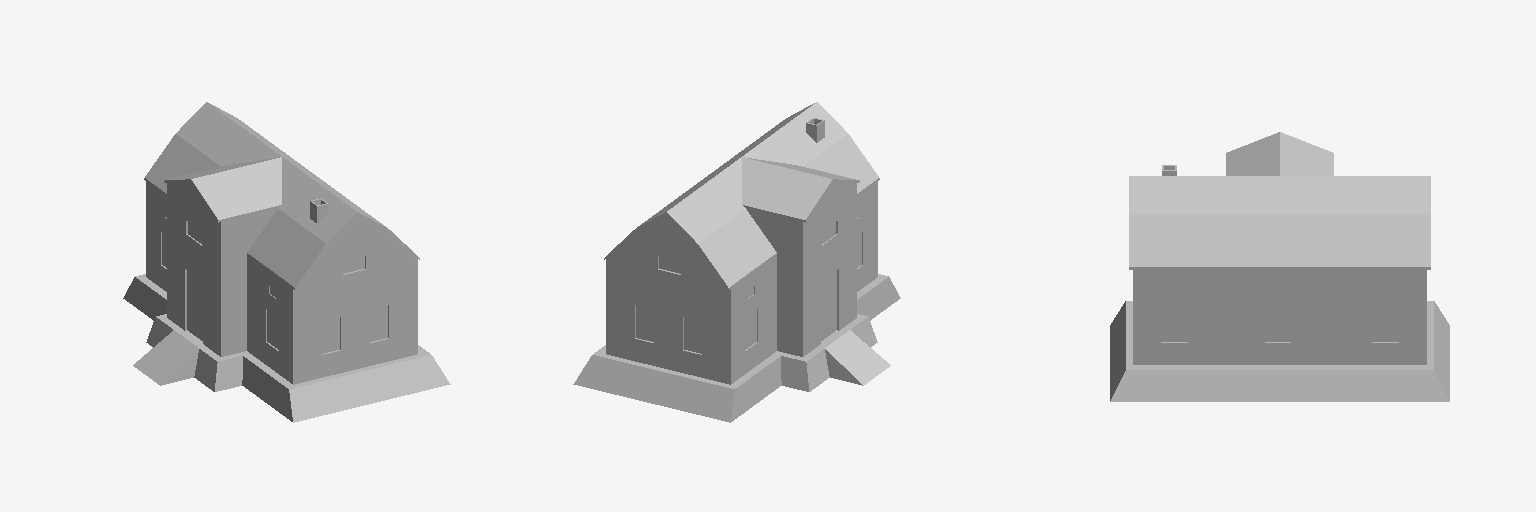
The model's file is town_house_1.obj.
3 views of the same model, side by side, from view 1: azimuth 30°, elevation 25°; view 2: azimuth 150°, elevation 25°; view 3: azimuth 270°, elevation 25° (orthographic).
Parts seen in each view (by area): view 1: town_house_1; view 2: town_house_1; view 3: town_house_1.
Part boxes in pixels (bbox=[...]): town_house_1: bbox=[123, 102, 450, 422]; town_house_1: bbox=[573, 102, 900, 422]; town_house_1: bbox=[1110, 132, 1449, 401].
Size of the model in its own units: 5.98 by 4.85 by 8.04.